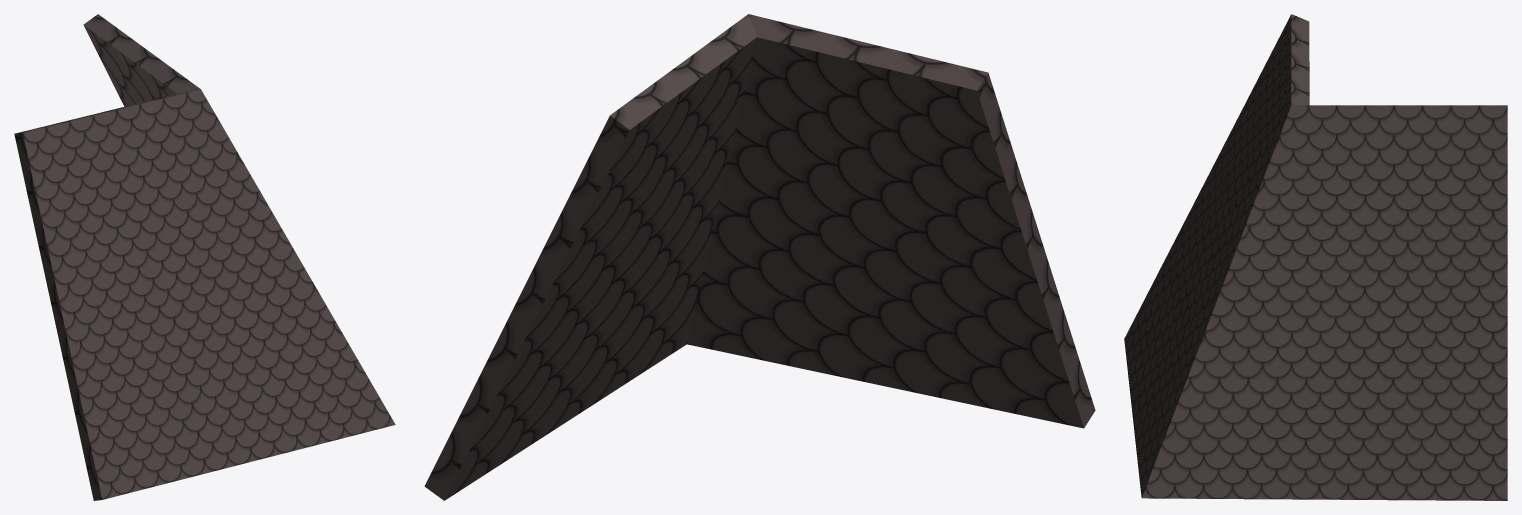
Rendered from schoolroofCorner.fbx.
3 views of the same model, side by side, from view 1: azimuth 30°, elevation 25°; view 2: azimuth 150°, elevation 25°; view 3: azimuth 270°, elevation 25° (orthographic). The views are drawn at different scales.
Visible parts, largest first — view 1: roofCorner; view 2: roofCorner; view 3: roofCorner.
Part boxes in pixels (bbox=[...]): roofCorner: bbox=[14, 14, 395, 500]; roofCorner: bbox=[424, 14, 1095, 500]; roofCorner: bbox=[1124, 14, 1507, 500].
Bounding box in the file's own units: 582 × 556 × 582.
Materials: 1 (1 with a texture image).
